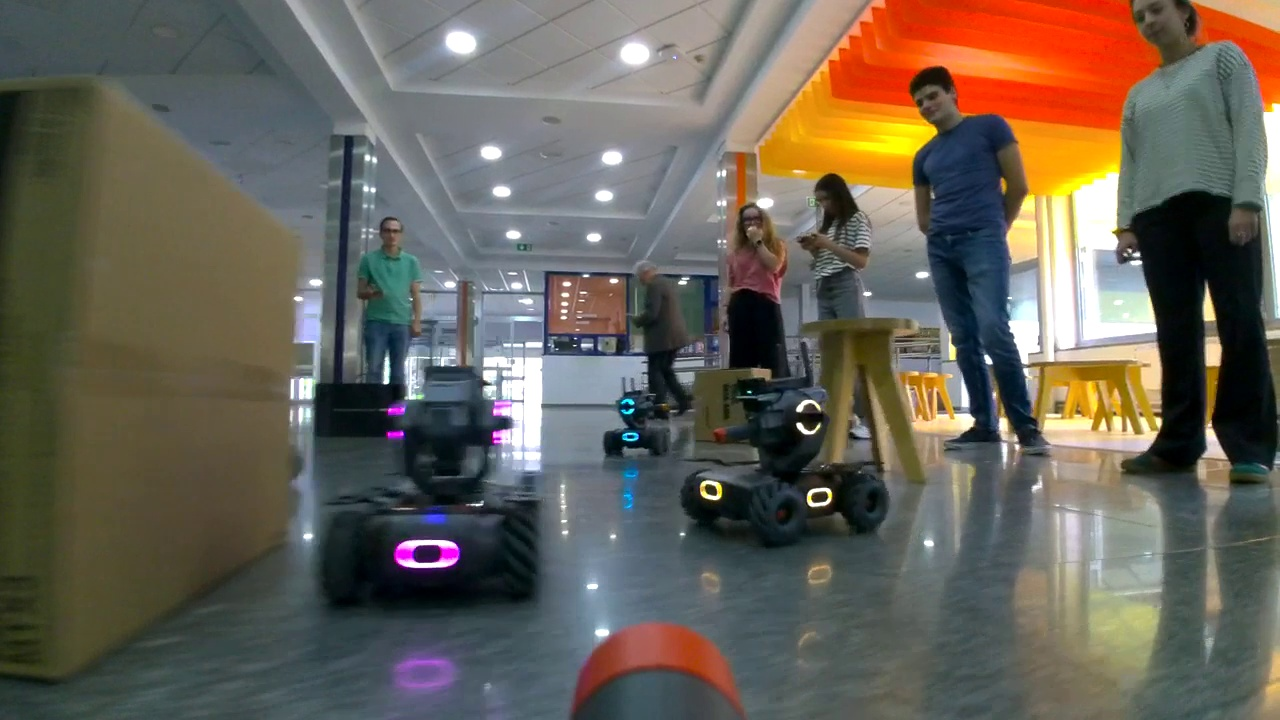robot: (682, 377, 891, 535), (602, 393, 669, 453)
